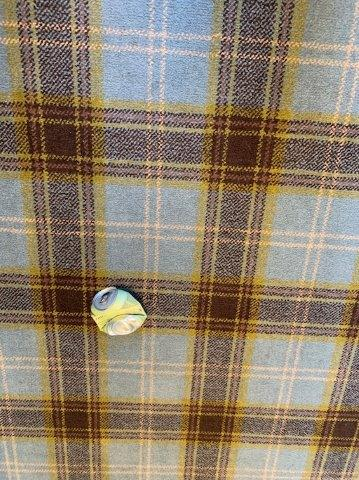kaleng: (90, 287, 147, 335)
